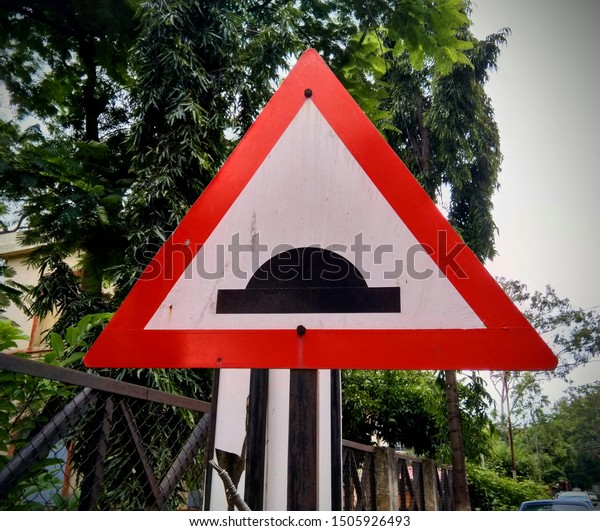speed-breaker: (85, 44, 557, 366)
